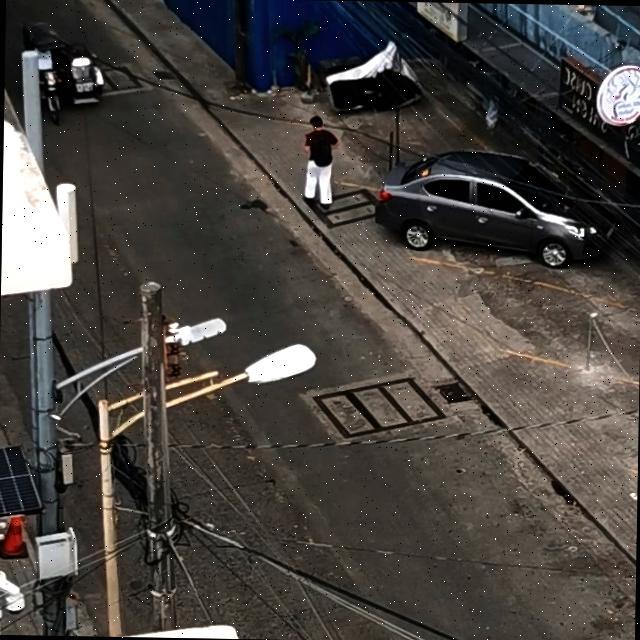Tricycle: (3, 10, 118, 140)
